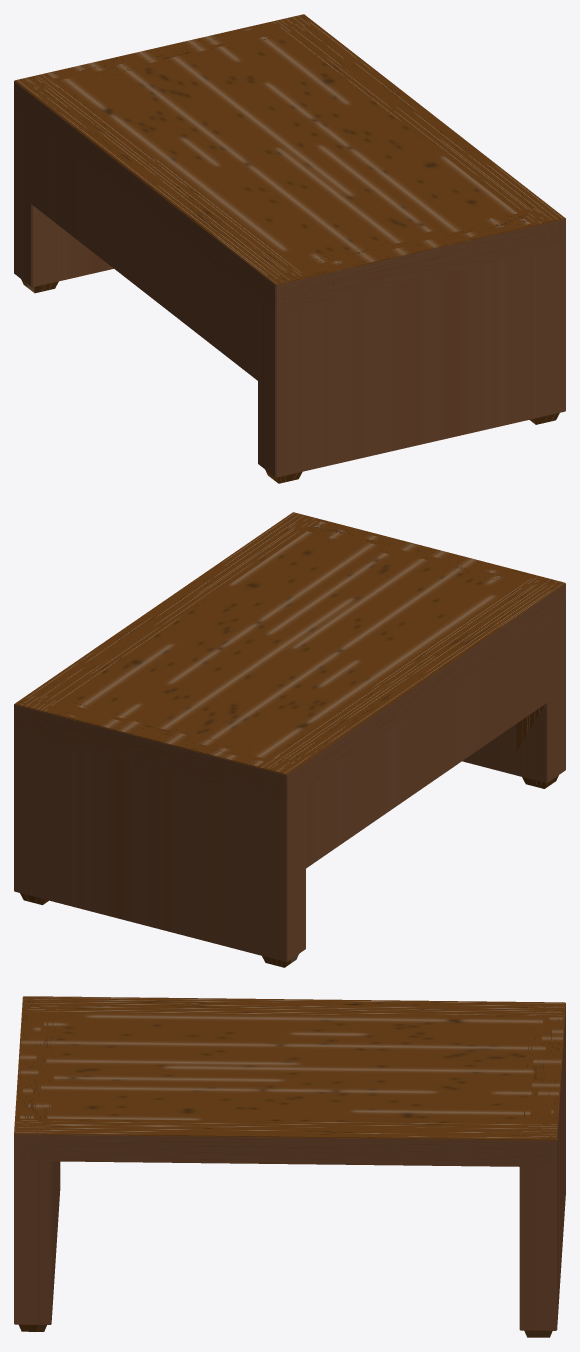
File: desk.fbx
The picture shows the model from 3 angles, top to bottom: view 1: azimuth 30°, elevation 25°; view 2: azimuth 150°, elevation 25°; view 3: azimuth 270°, elevation 25°; orthographic projection. The views are drawn at different scales.
Parts seen in each view (by area): view 1: Desk; view 2: Desk; view 3: Desk.
Boxes of the visible parts, <box> form: Desk: <box>14,14,565,483</box>; Desk: <box>14,512,565,967</box>; Desk: <box>14,996,565,1337</box>.
Size of the model in its own units: 94.46 by 61.4 by 153.
2 materials, 2 textured.
